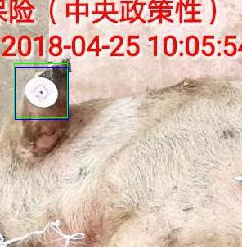text: (14, 63, 67, 117)
